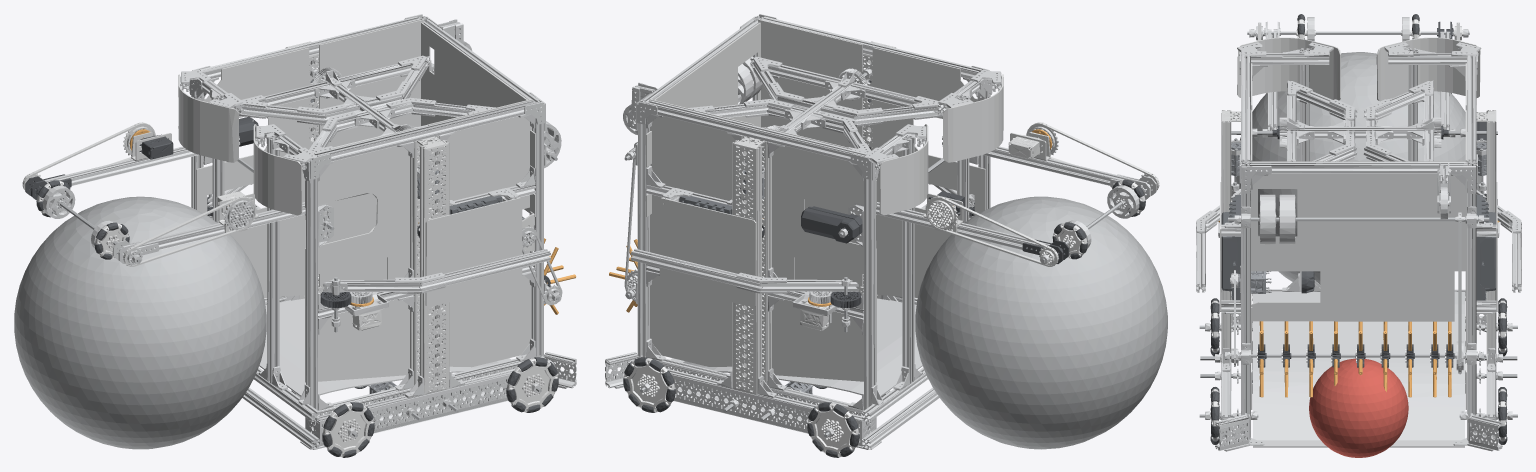
Rendered from fgc.glb.
The picture shows the model from 3 angles, left to right: view 1: azimuth 30°, elevation 25°; view 2: azimuth 150°, elevation 25°; view 3: azimuth 270°, elevation 25°; orthographic projection.
Parts seen in each view (by area): view 1: frame_panel, barrier_barrier, frame_alu, arms_alu, arms_panel, arms_black, wheel2_white, wheel0_white, frame_black, wheel0_black, wheel2_black, arms_white; view 2: frame_panel, frame_alu, barrier_barrier, arms_alu, arms_panel, frame_black, wheel1_white, wheel3_white, arms_black, wheel3_black, wheel1_black, arms_white; view 3: frame_alu, frame_panel, barrier_barrier, ball_ballRed, intake_orange, frame_steel, arms_alu, hubL_hubcase, intake_black, hubR_hubcase, frame_aluDark, frame_black (+7 smaller).
Boxes of the visible parts, <box> form: frame_panel: <box>178,19,535,394</box>; barrier_barrier: <box>14,196,266,449</box>; frame_alu: <box>180,14,576,449</box>; arms_alu: <box>24,136,327,265</box>; arms_panel: <box>22,122,258,266</box>; arms_black: <box>25,134,173,259</box>; wheel2_white: <box>323,403,373,457</box>; wheel0_white: <box>507,358,557,412</box>; frame_black: <box>207,117,419,388</box>; wheel0_black: <box>506,357,558,412</box>; wheel2_black: <box>322,402,374,457</box>; arms_white: <box>37,181,128,258</box>; frame_panel: <box>646,19,1003,394</box>; frame_alu: <box>605,14,1001,449</box>; barrier_barrier: <box>915,196,1167,449</box>; arms_alu: <box>854,122,1159,264</box>; arms_panel: <box>923,122,1159,266</box>; frame_black: <box>762,135,974,388</box>; wheel1_white: <box>624,358,674,412</box>; wheel3_white: <box>808,403,858,457</box>; arms_black: <box>928,179,1145,263</box>; wheel3_black: <box>807,402,859,457</box>; wheel1_black: <box>623,357,675,412</box>; arms_white: <box>1053,180,1145,258</box>; frame_alu: <box>1196,42,1521,451</box>; frame_panel: <box>1220,37,1497,409</box>; barrier_barrier: <box>1234,52,1483,284</box>; ball_ballRed: <box>1309,358,1408,457</box>; intake_orange: <box>1259,321,1451,397</box>; frame_steel: <box>1199,131,1517,417</box>; arms_alu: <box>1249,17,1468,130</box>; hubL_hubcase: <box>1476,194,1495,300</box>; intake_black: <box>1257,344,1454,367</box>; hubR_hubcase: <box>1221,194,1240,300</box>; frame_aluDark: <box>1231,142,1486,382</box>; frame_black: <box>1231,122,1497,293</box>.
Size of the model in its own units: 0.8618 by 0.4924 by 0.4977.
